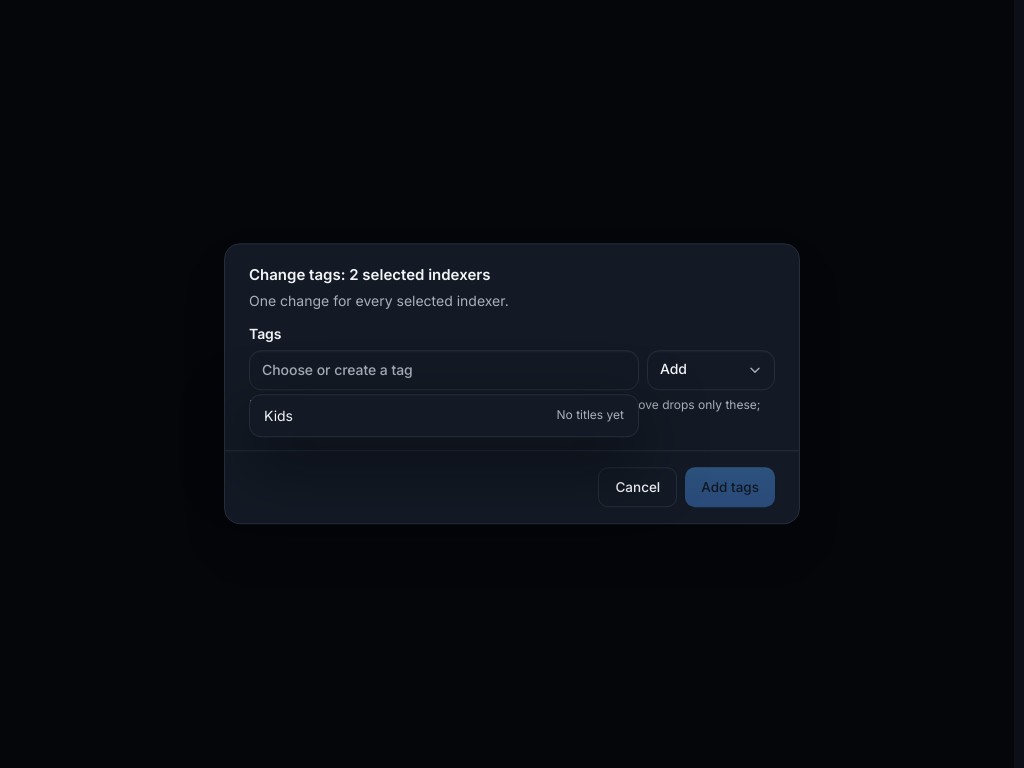
Test: ConnectionTagsDialog (#1044) › shows the problem and stays open when the change is refused
The image size is (1024, 768).
Step 1. Select "Replace" in the dropdown named "How to apply the tags" → (711, 370), box top-left (647, 350), bottom-right (775, 390)
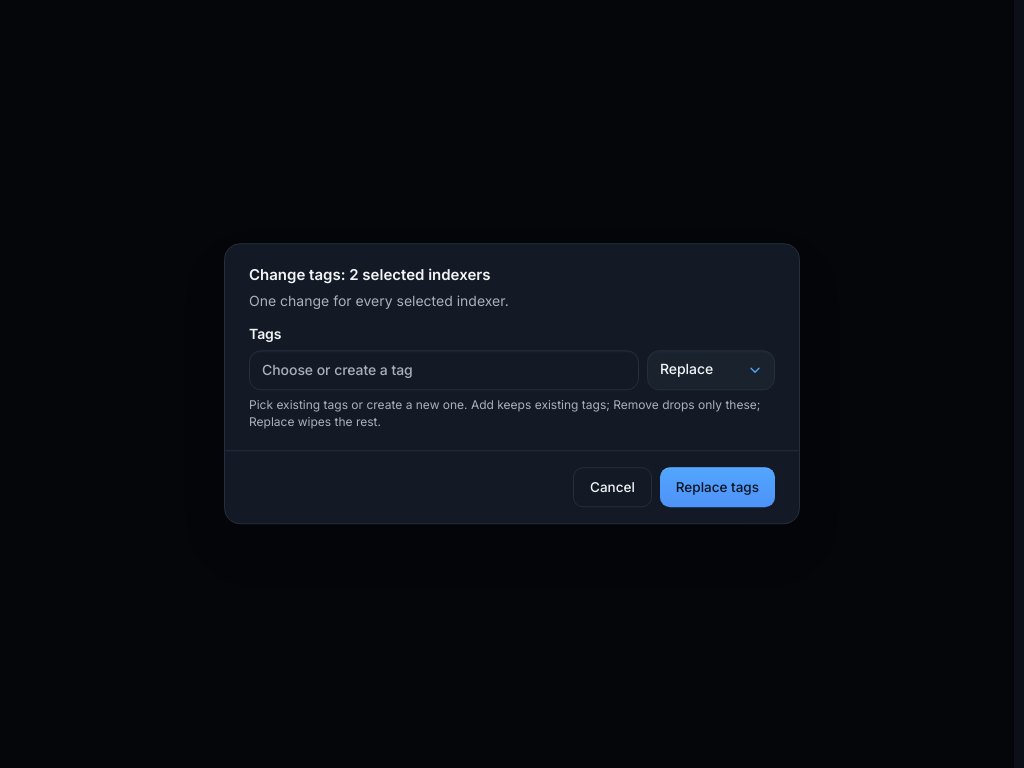
Step 2. Click the button "Replace tags" → (717, 488), box top-left (660, 468), bottom-right (775, 508)
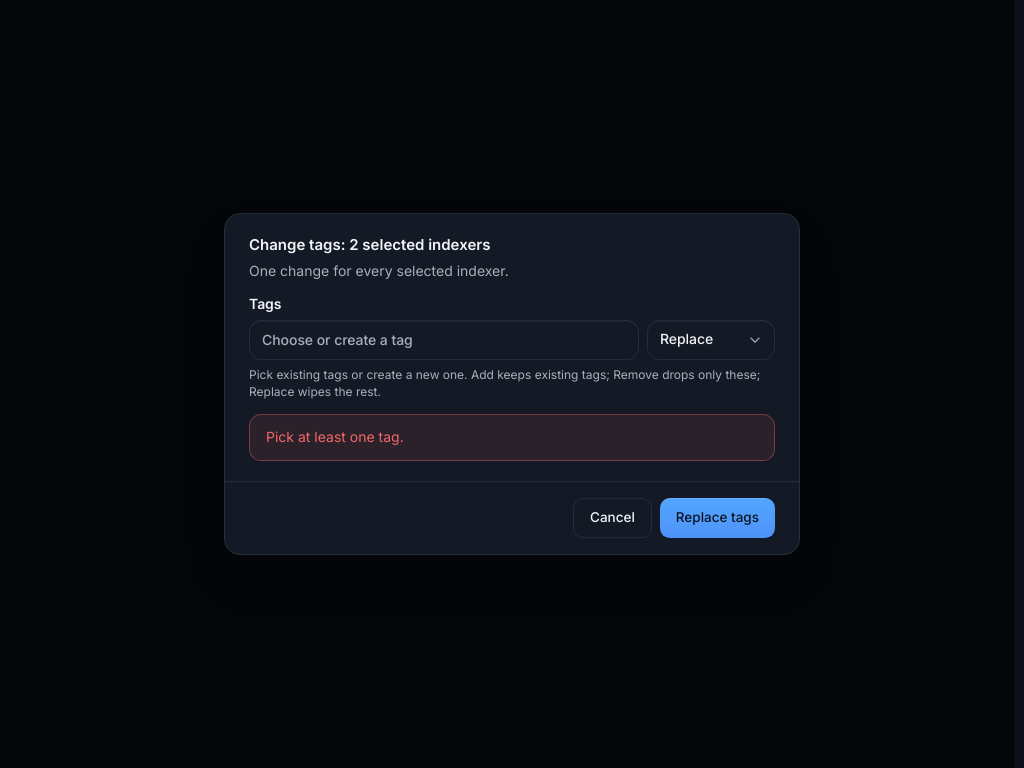
Result: the message "Pick at least one tag." is shown at top-left (249, 415), bottom-right (775, 461)
